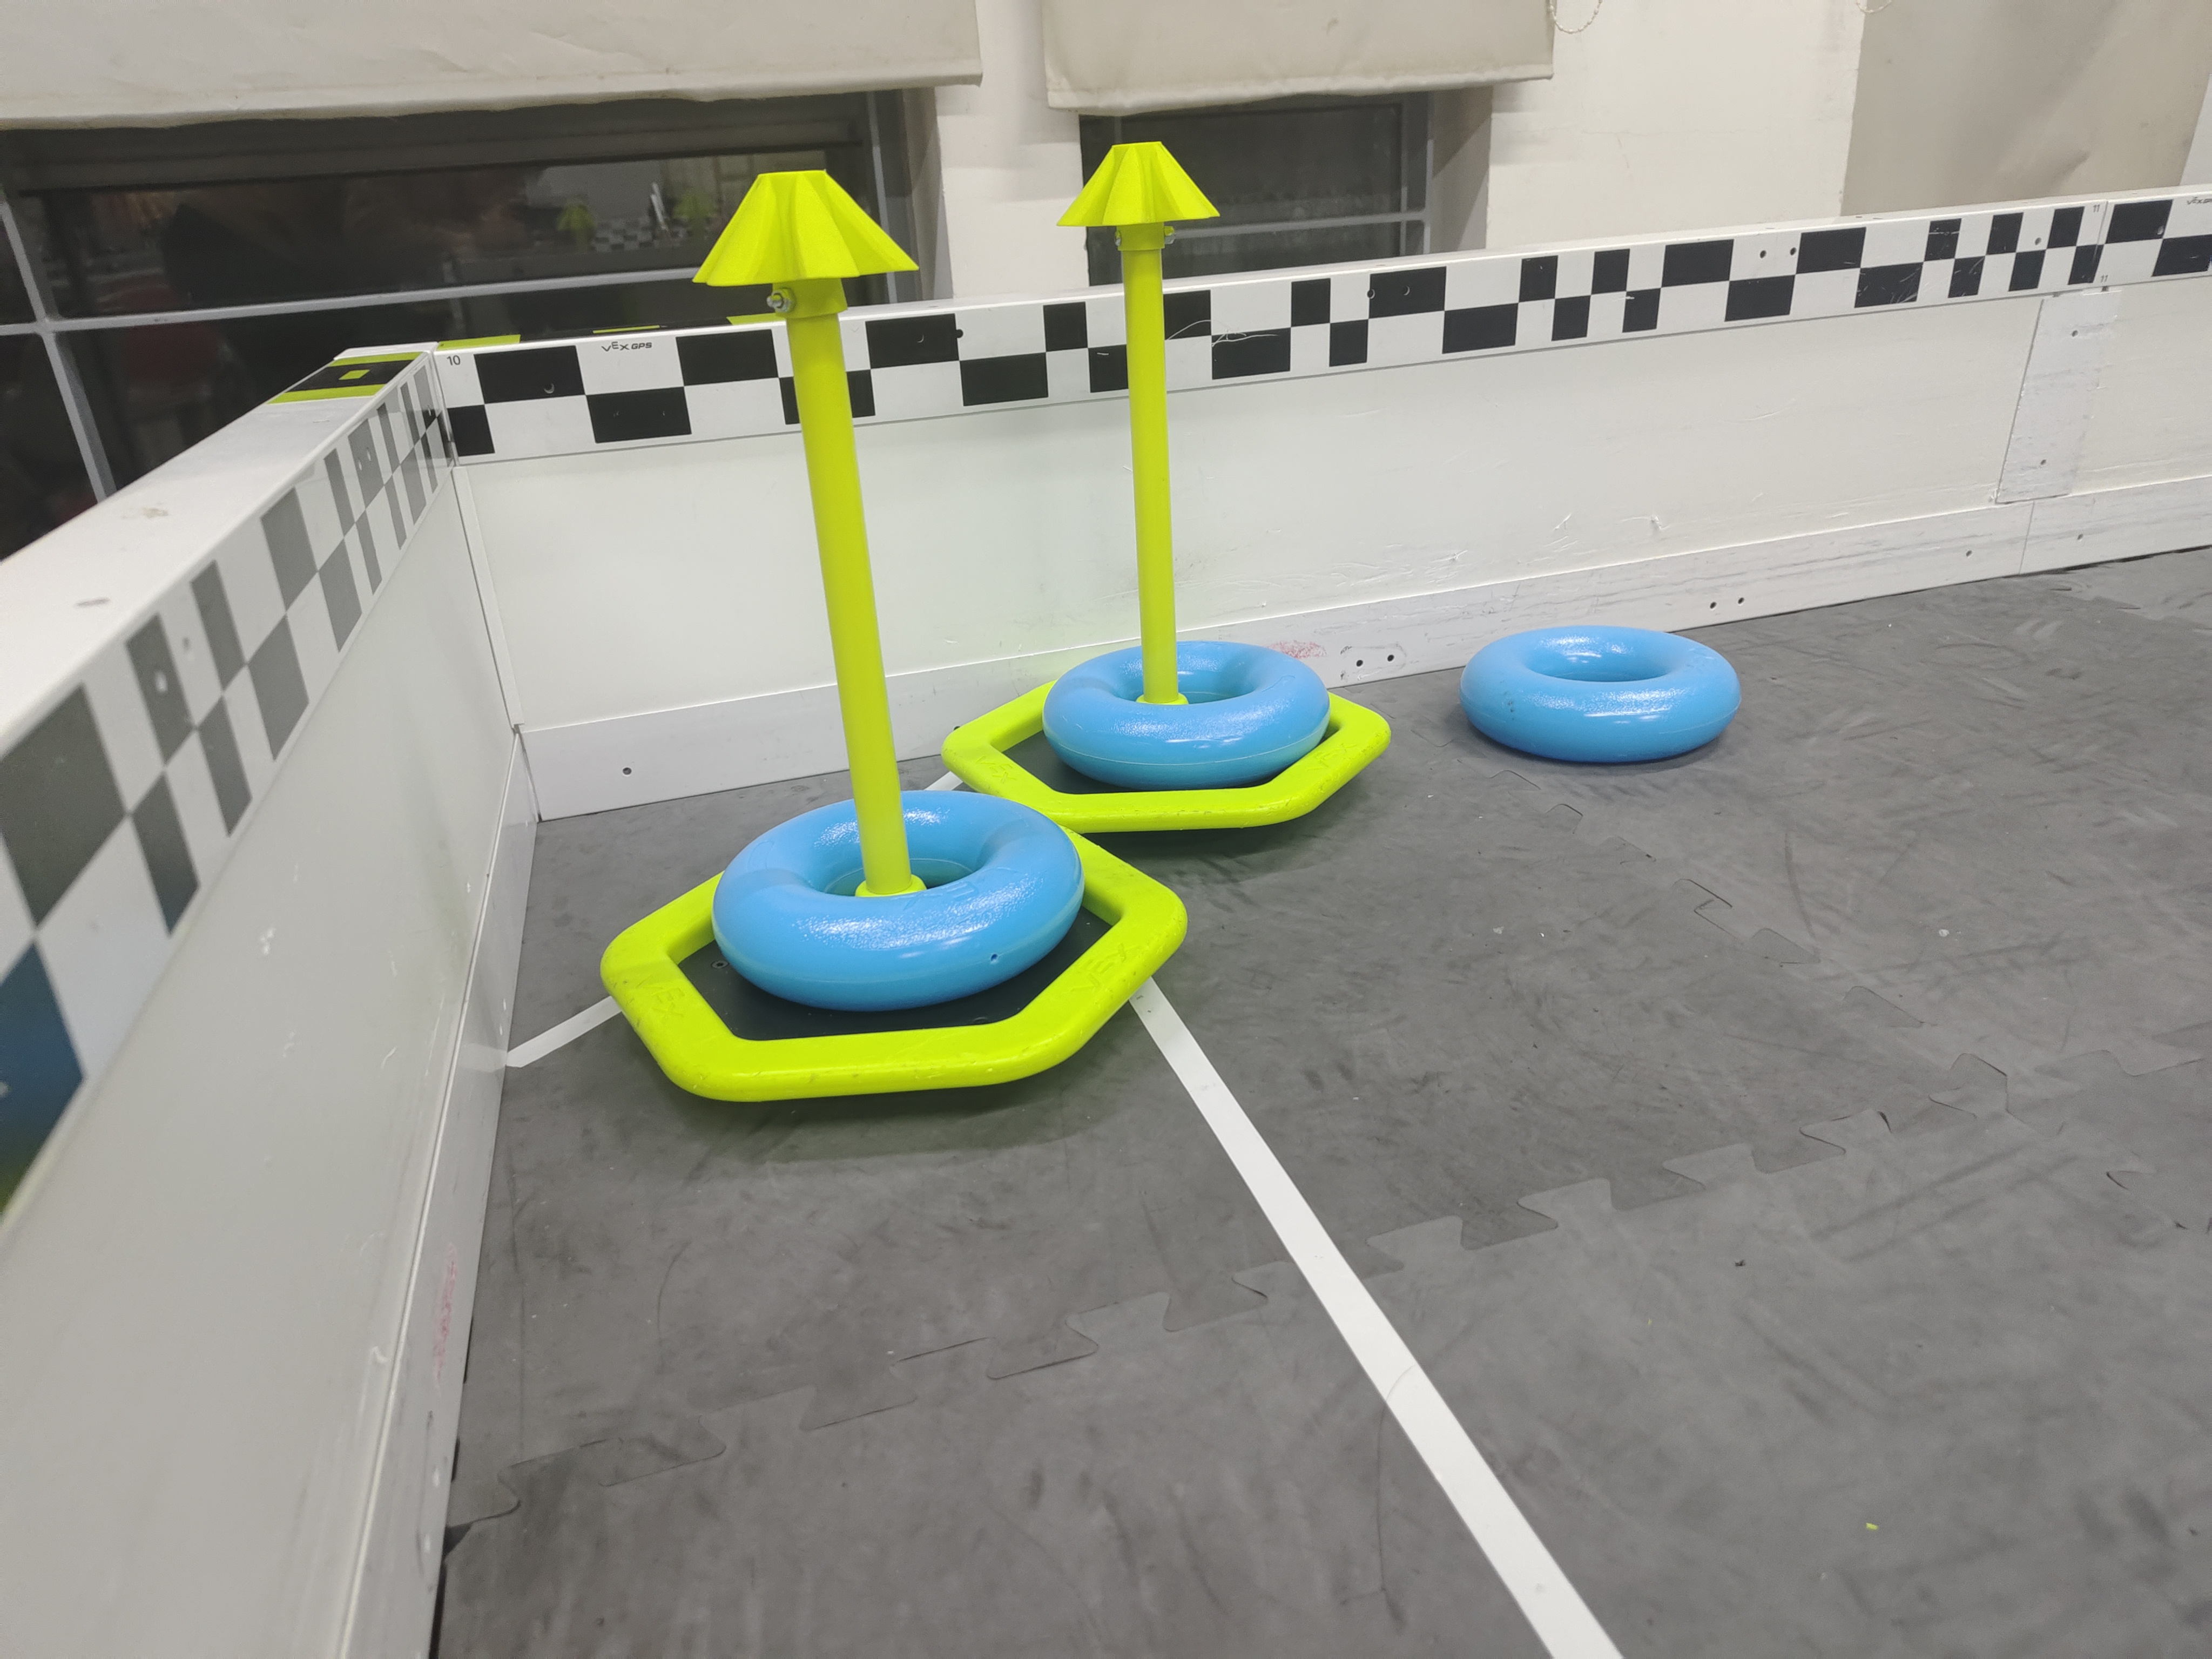blue: (698, 786, 1085, 993), (1465, 627, 1742, 772), (1045, 636, 1327, 777)
score: (596, 166, 1188, 1112), (935, 115, 1388, 828)
